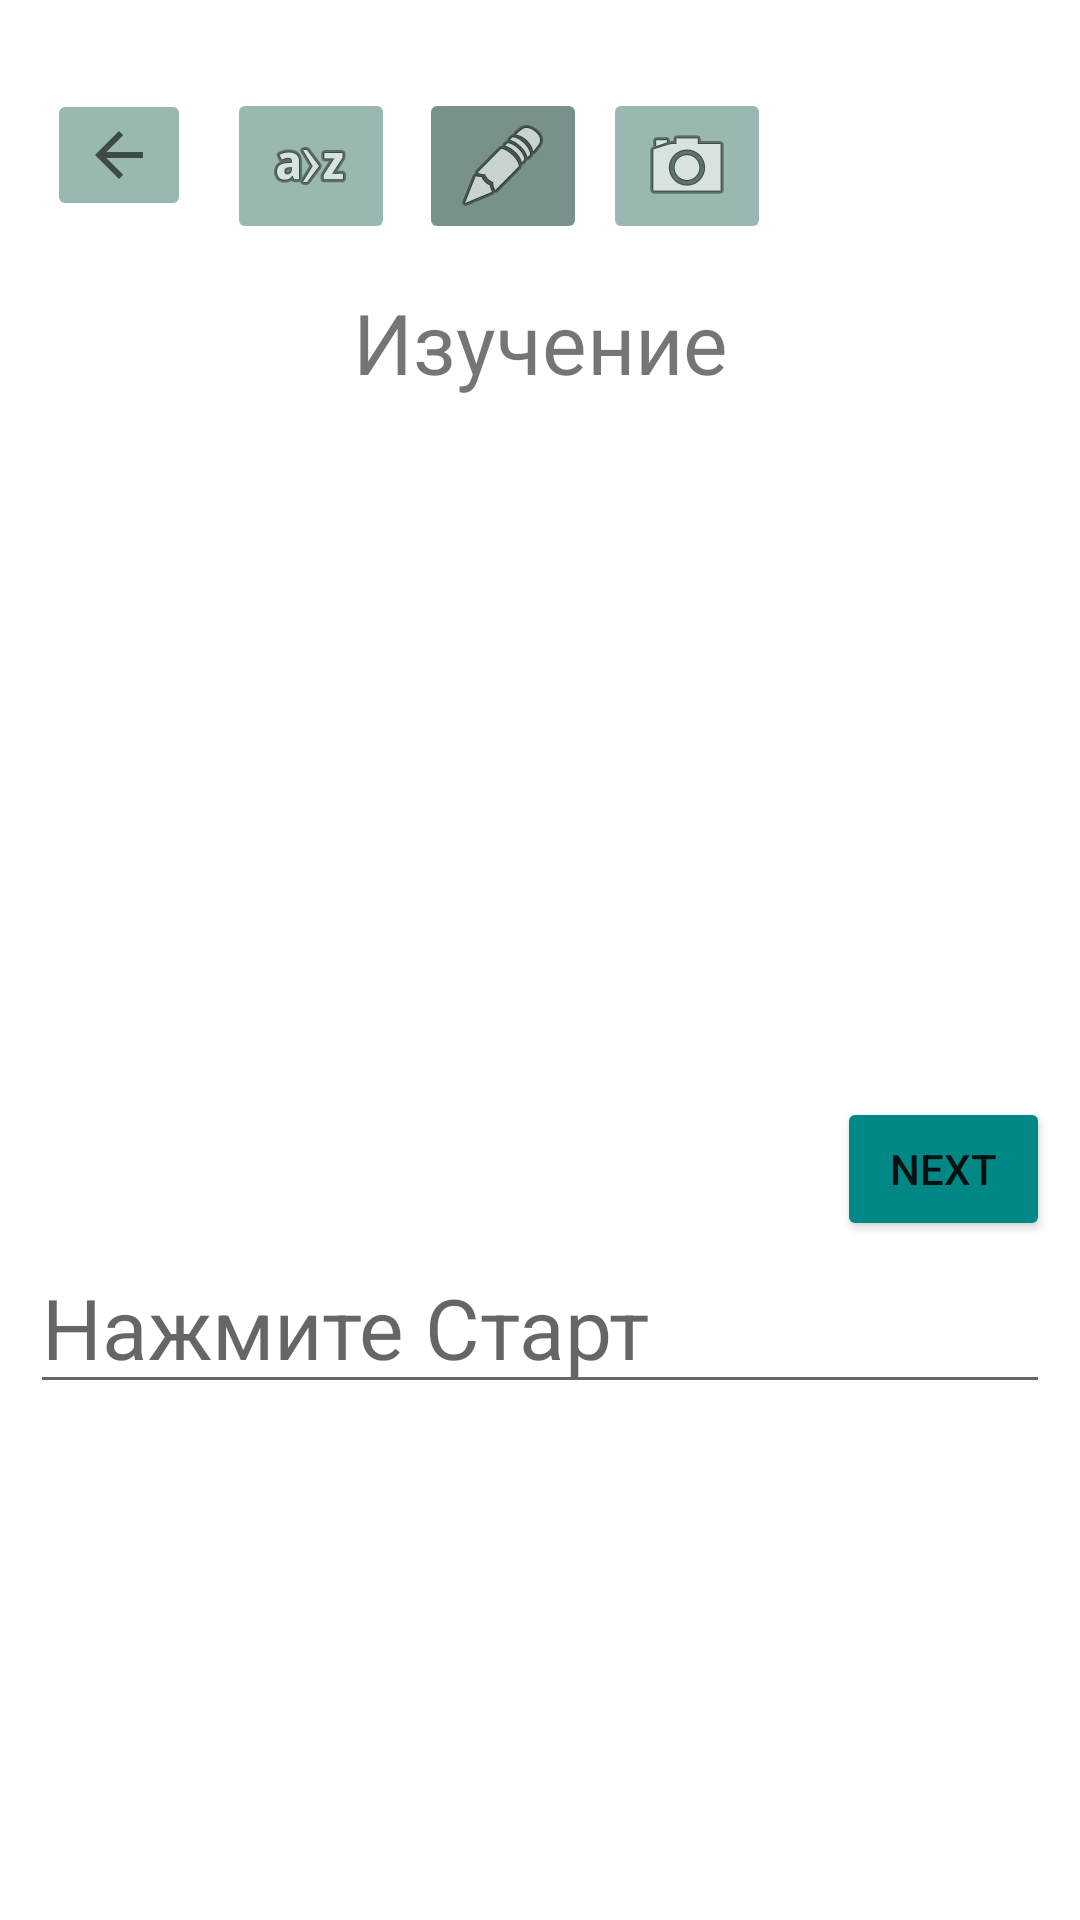

Where icons sit on this 1080w x 1920h app screen, as (x1, y1, x2, y2):
camera: (615, 106, 759, 226)
edit: (431, 106, 575, 226)
sort alphabetically: (239, 106, 383, 226)
